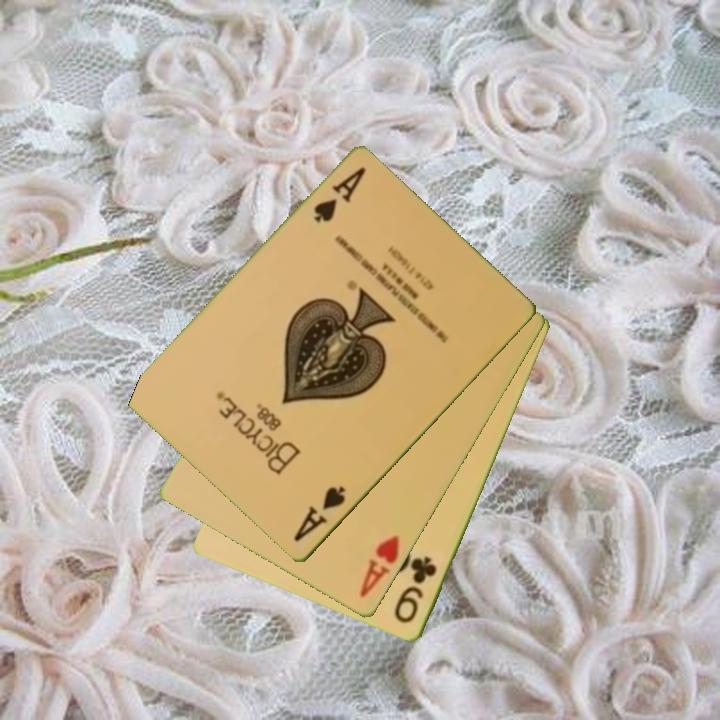9c: (391, 553, 440, 627)
Ah: (356, 532, 403, 602)
As: (309, 164, 369, 227), (290, 483, 349, 545)
